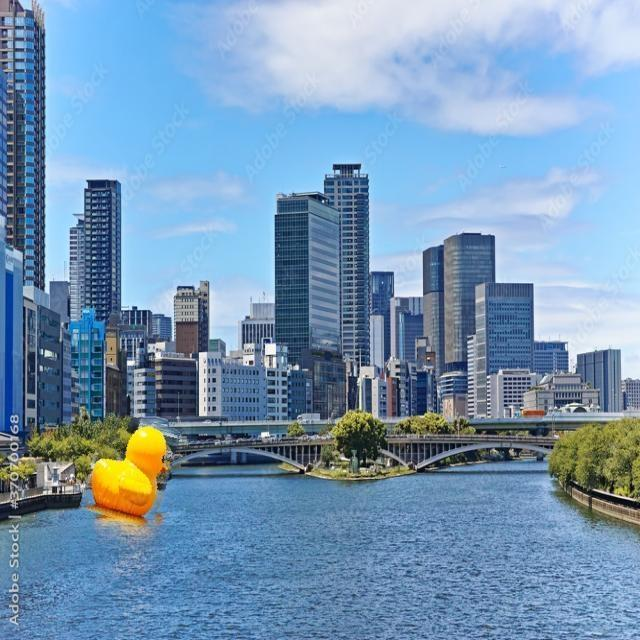rubber-duck: (91, 425, 164, 514)
